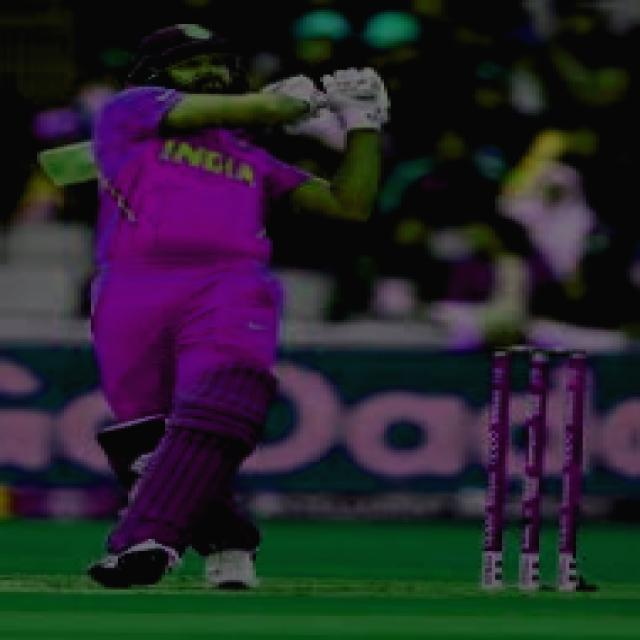toe: (40, 149, 75, 190)
